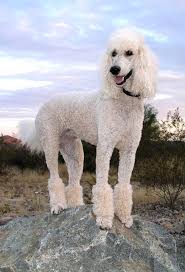Poodle: (18, 17, 165, 252)
